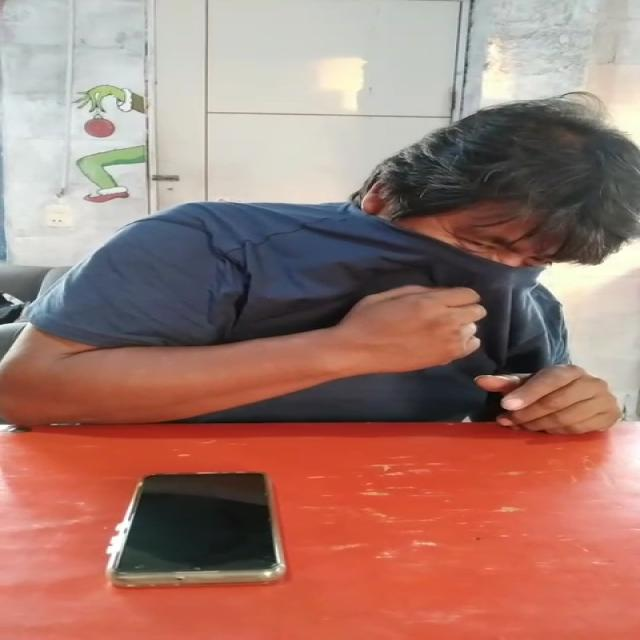8_ropa_rostro: (233, 210, 547, 341)
